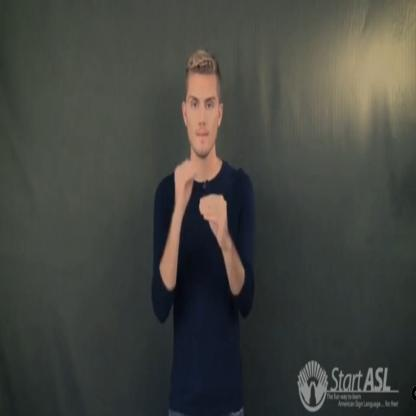Fix: (170, 151, 229, 262)
